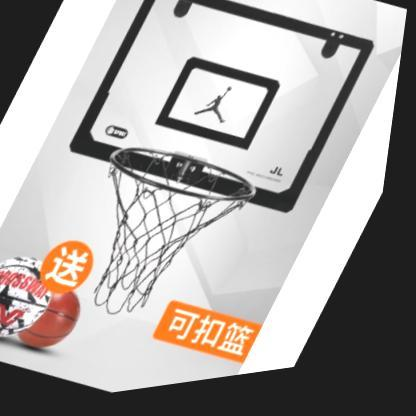basketball: (0, 241, 79, 355)
rim: (44, 124, 277, 355)
